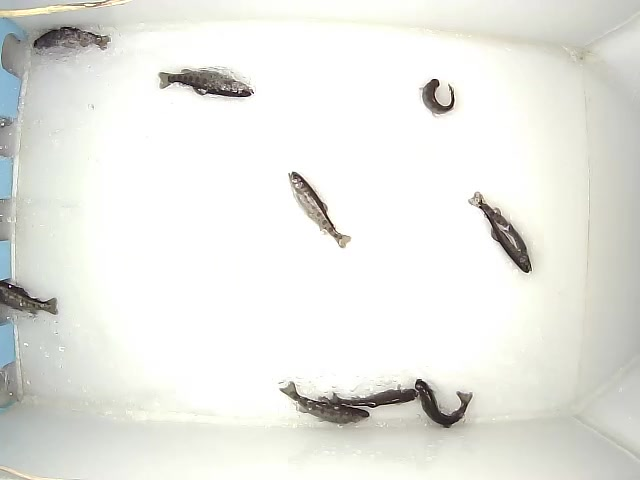fish: (467, 190, 533, 274), (286, 170, 351, 250), (278, 381, 371, 427), (157, 64, 257, 99), (414, 378, 473, 430), (328, 382, 419, 409), (32, 25, 113, 54), (1, 281, 60, 317), (419, 78, 457, 119)
